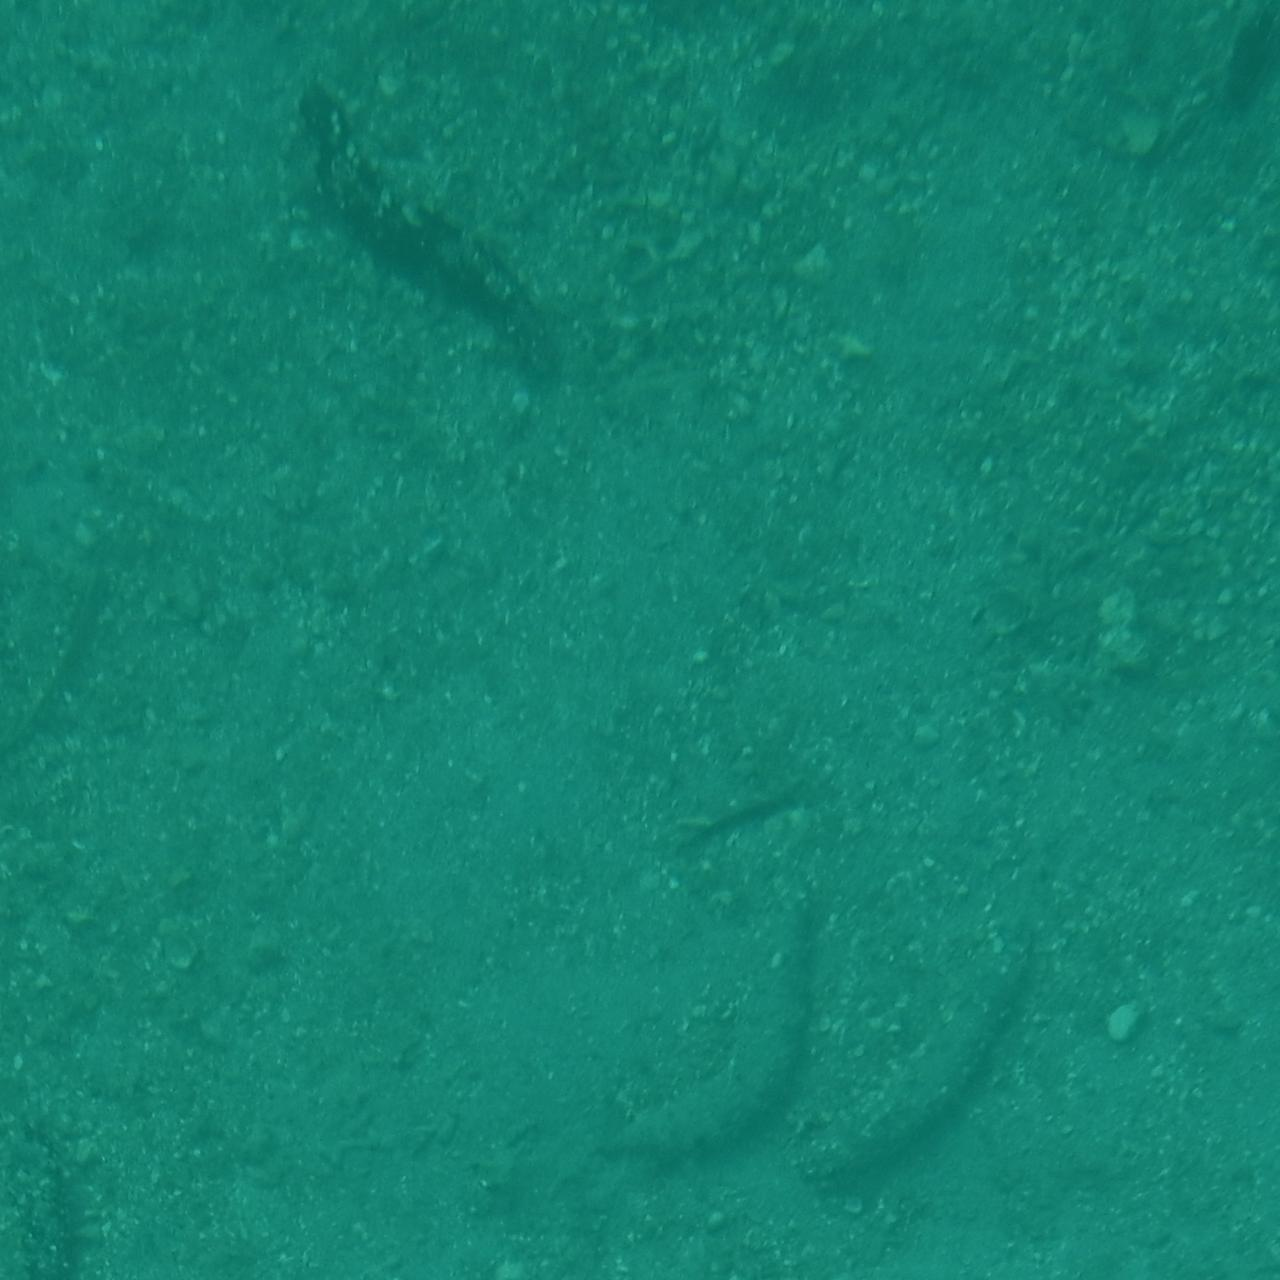Holothuria tubulosa: (277, 89, 568, 411), (790, 901, 1078, 1203), (631, 818, 829, 1192), (1133, 653, 1280, 967), (0, 0, 203, 142), (0, 1042, 64, 1280)
